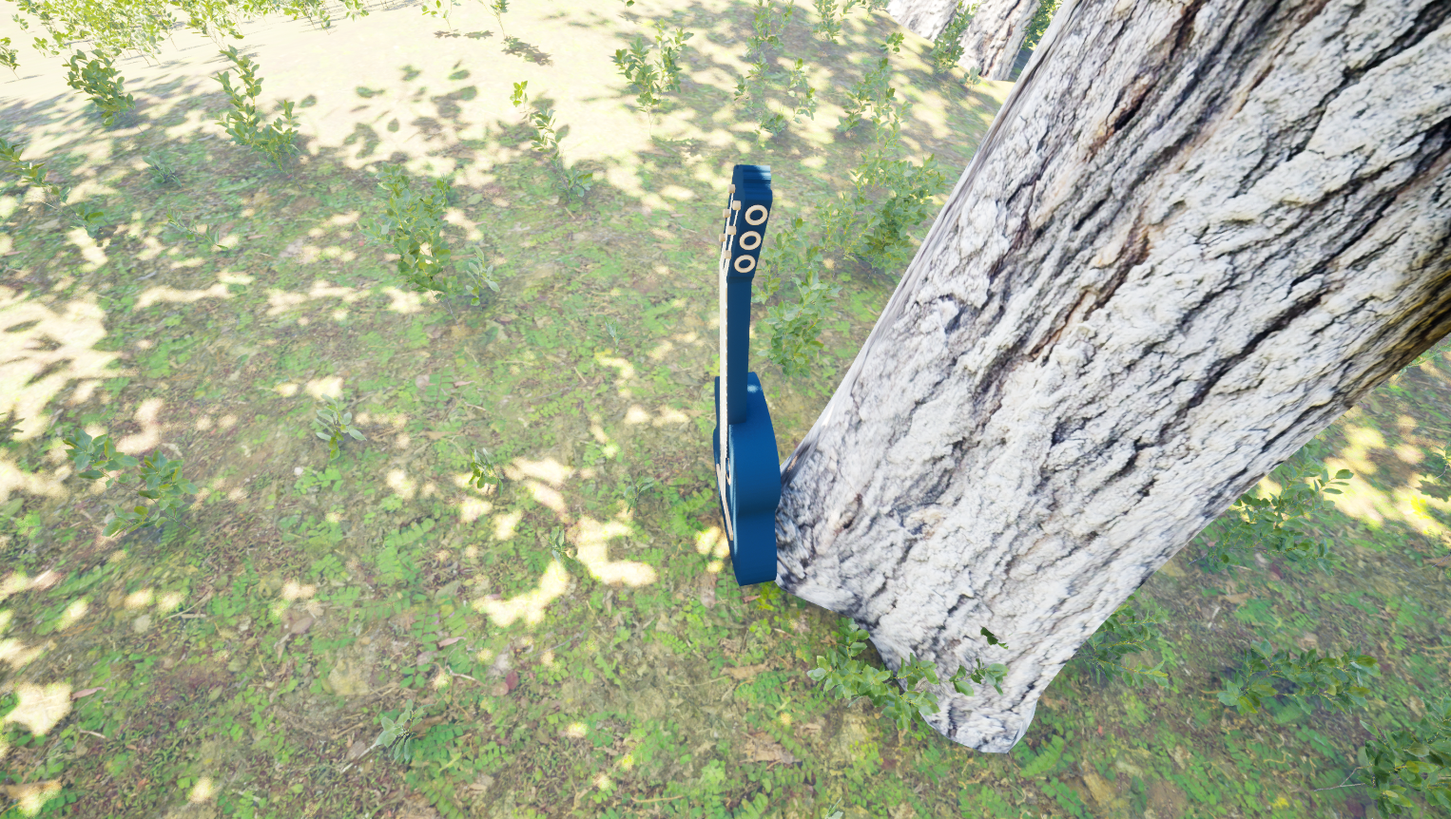Guitar: (698, 91, 829, 606)
